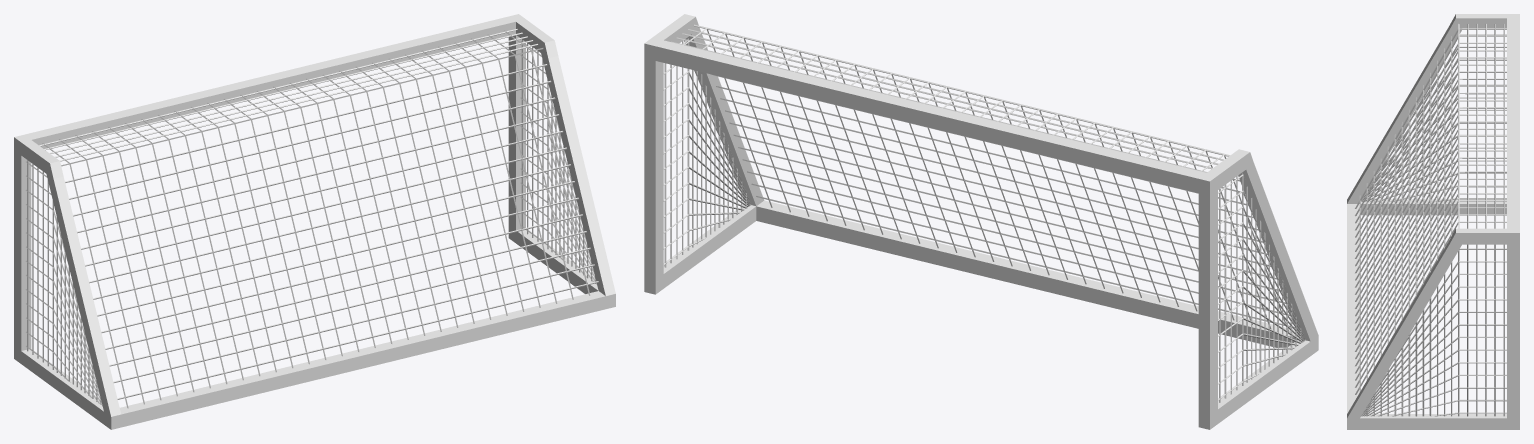
The model's file is LowPolySoccerGoal.fbx.
3 renders of one model, left to right at view 1: azimuth 30°, elevation 25°; view 2: azimuth 150°, elevation 25°; view 3: azimuth 270°, elevation 25°, orthographic. The views are drawn at different scales.
Parts seen in each view (by area): view 1: Goal; view 2: Goal; view 3: Goal.
Boxes of the visible parts, x1,y1,x2,y2 form: Goal: (14,14,615,429); Goal: (644,14,1318,429); Goal: (1347,14,1519,429).
Bounding box in the file's own units: 20.25 × 6.75 × 8.5.
